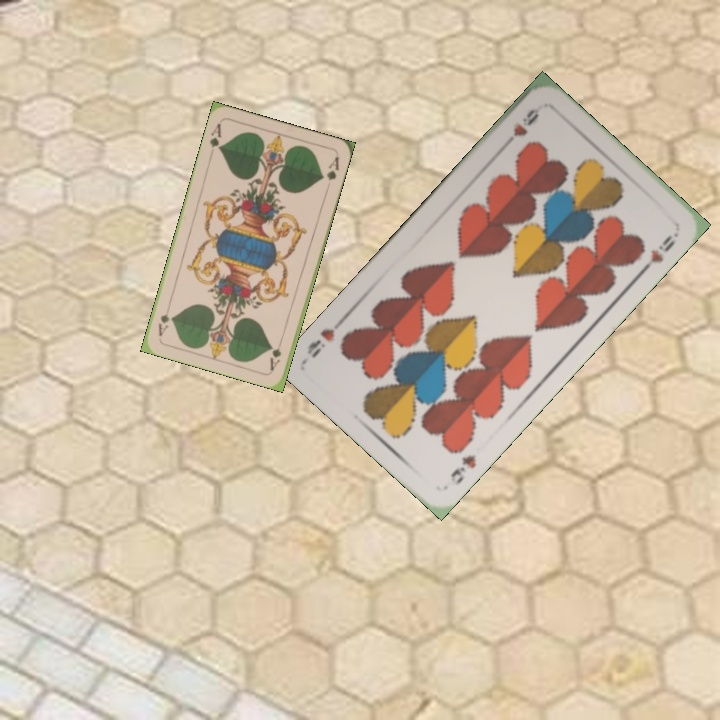GA: (266, 333, 286, 373), (205, 119, 224, 153)
H9: (499, 102, 544, 151), (444, 450, 479, 489)
